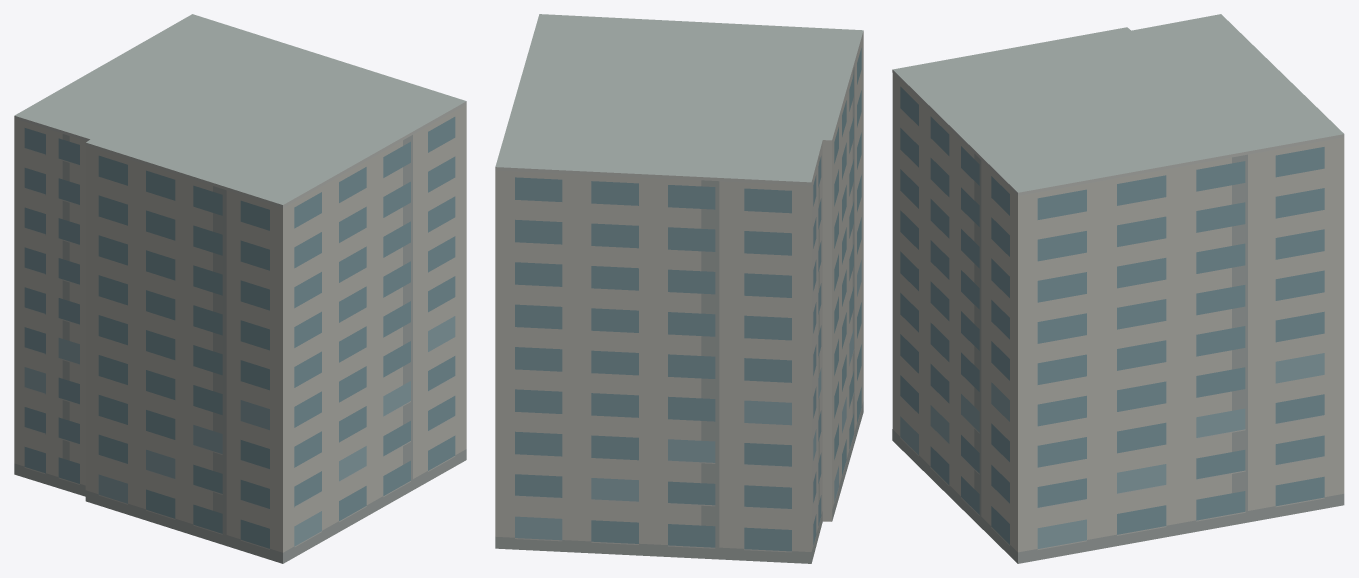
File: survey-upis-32866362.glb
The picture shows the model from 3 angles, left to right: view 1: azimuth 30°, elevation 25°; view 2: azimuth 150°, elevation 25°; view 3: azimuth 270°, elevation 25°; orthographic projection. The views are drawn at different scales.
Visible parts, largest first — view 1: survey-upis-32866362.tmp; view 2: survey-upis-32866362.tmp; view 3: survey-upis-32866362.tmp.
Part boxes in pixels (left/top/right/bottom): survey-upis-32866362.tmp: left=14, top=14, right=466, bottom=563; survey-upis-32866362.tmp: left=495, top=14, right=863, bottom=563; survey-upis-32866362.tmp: left=892, top=14, right=1344, bottom=563.
Size of the model in its own units: 29.25 by 28.3 by 31.24.
